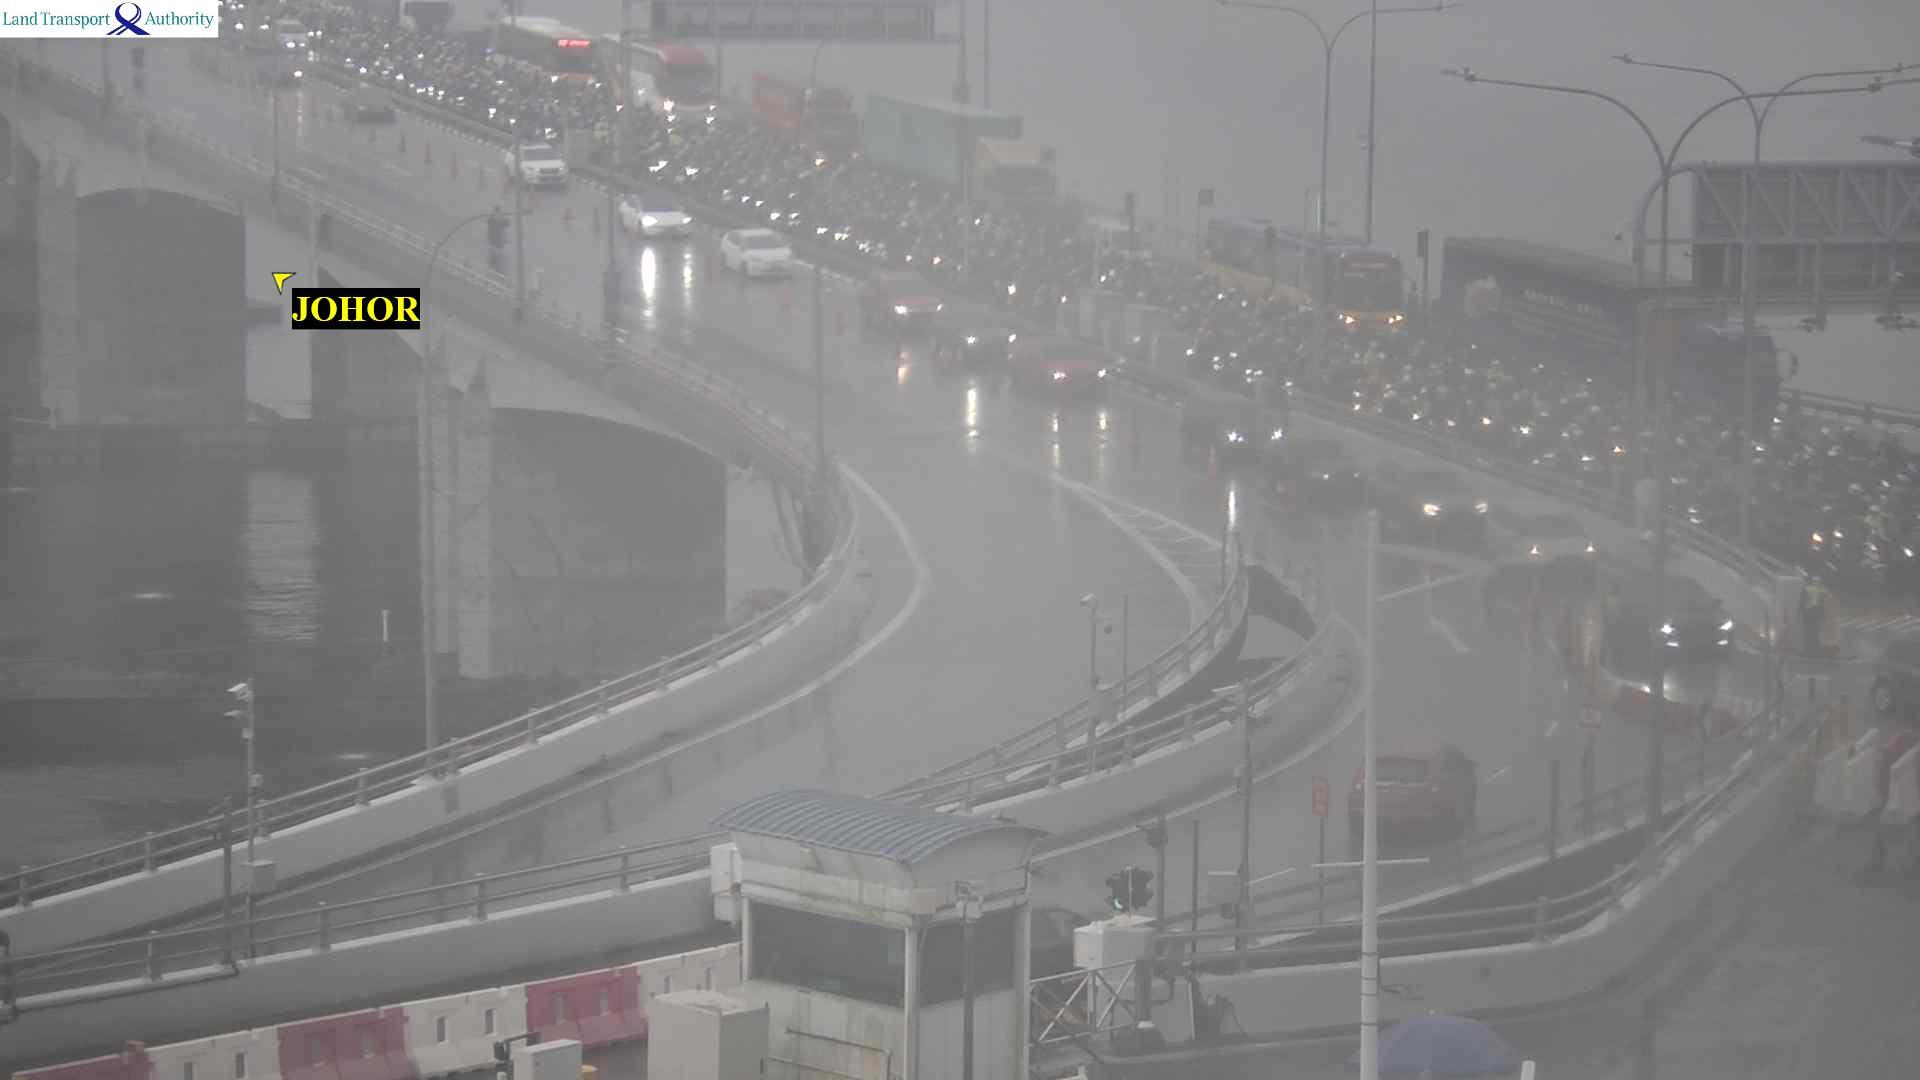vehicle-secondlink-johor: (1351, 742, 1480, 832), (487, 202, 508, 246)
vehicle-secondlink-singapore: (1470, 284, 1771, 421), (868, 99, 1069, 198), (1197, 209, 1414, 292), (1358, 453, 1504, 532), (1591, 572, 1732, 653), (969, 329, 1125, 401), (606, 33, 712, 127), (1486, 502, 1592, 587), (749, 67, 856, 147), (858, 267, 950, 344), (1184, 396, 1278, 467), (497, 17, 591, 82), (709, 225, 815, 278), (1263, 438, 1356, 496), (616, 200, 690, 249), (510, 146, 572, 195), (349, 87, 394, 120), (274, 18, 309, 50)
